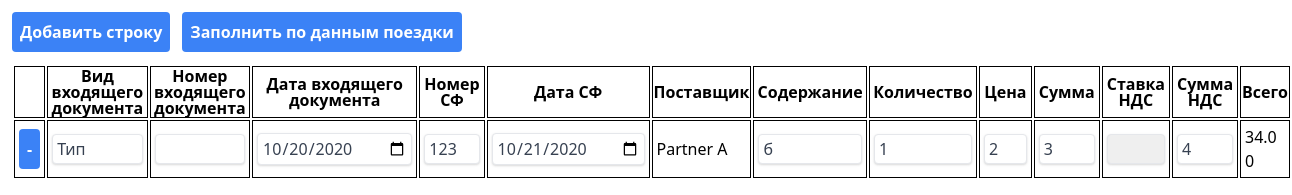
Test: AdvanceItems.vue › deletes row when row delete button clicked
Click the button "-" at (30, 149), box left=19, top=129, right=40, bottom=169
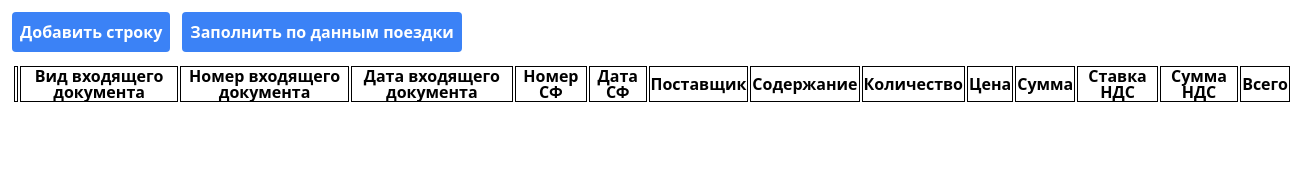
Expected: the field showing "Тип" is not shown
Now the cell showing "3" is gone
Now the cell showing "4" is gone
